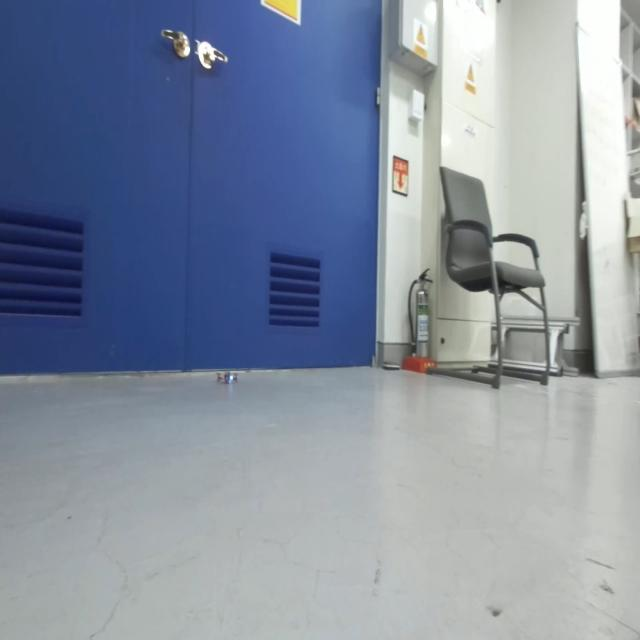crazyflie: (213, 365, 240, 390)
